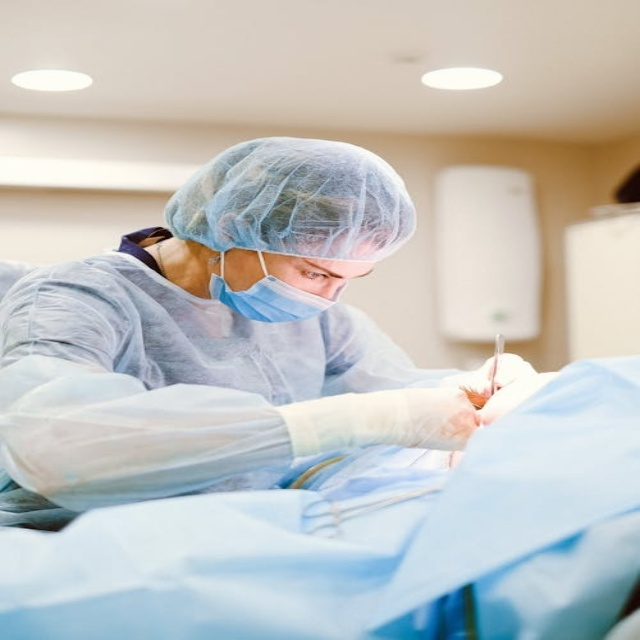Guantes: (287, 380, 488, 454), (454, 352, 547, 424)
Mascara: (213, 246, 343, 324)
Sin_gafas: (280, 256, 375, 288)
